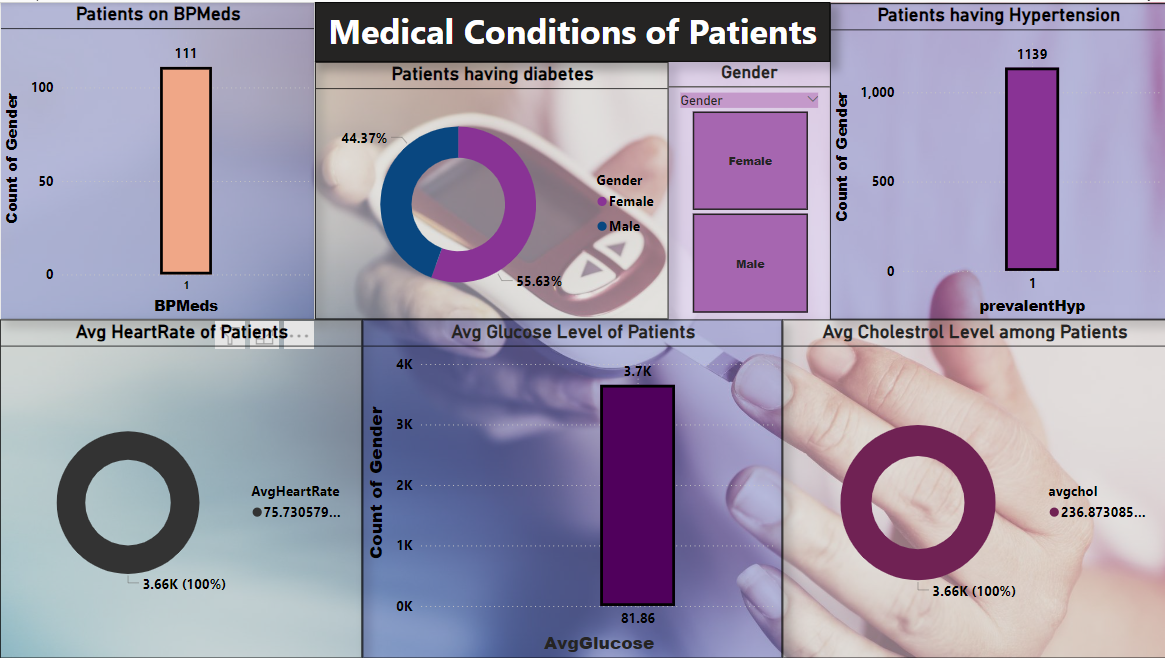

What the dashboard file says about the page in this screenshot:
{"tool":"powerbi","page":{"name":"Page 2","canvas":[1280,720],"ordinal":1},"visuals":[{"type":"clusteredColumnChart","title":"Patients on BPMeds","fields":{"Category":["heart_disease.BPMeds"],"Y":["CountNonNull(heart_disease.Gender)"]},"box":[0,0,345.8,348.5],"z":0},{"type":"donutChart","title":"Patients having diabetes","fields":{"Y":["CountNonNull(heart_disease.diabetes)"],"Category":["heart_disease.Gender"]},"box":[345.8,65.9,388.3,282.7],"z":1000},{"type":"columnChart","title":"Patients having Hypertension","fields":{"Category":["heart_disease.prevalentHyp"],"Y":["CountNonNull(heart_disease.Gender)"]},"box":[911.2,1.4,369.1,347.2],"z":2000},{"type":"textbox","box":[345.8,0,565.4,65.9],"z":3000},{"type":"donutChart","title":"Avg HeartRate of Patients","fields":{"Category":["heart_disease.AvgHeartRate"],"Y":["CountNonNull(heart_disease.Gender)"]},"box":[0,348.5,397.9,371.9],"z":4000},{"type":"columnChart","title":"Avg Glucose Level of Patients","fields":{"Y":["CountNonNull(heart_disease.Gender)"],"Category":["heart_disease.AvgGlucose"]},"box":[397.9,348.5,461.1,371.9],"z":5000},{"type":"donutChart","title":"Avg Cholestrol Level among Patients","fields":{"Category":["heart_disease.avgchol"],"Y":["CountNonNull(heart_disease.Gender)"]},"box":[859,348.5,421.3,371.9],"z":6000},{"type":"slicer","title":"Gender","fields":{"Values":["heart_disease.Gender"]},"box":[734.1,65.9,177,282.7],"z":7000}]}

Visuals, with their boxes in screenshot pixels (x1, y1, x2, y2), scaled from the page's 1280x720 canvas onto the 1165x658 screenshot:
"Patients on BPMeds" clusteredColumnChart: 0,0,315,318
"Patients having diabetes" donutChart: 315,60,668,319
"Patients having Hypertension" columnChart: 829,1,1164,319
textbox: 315,0,829,60
"Avg HeartRate of Patients" donutChart: 0,318,362,657
"Avg Glucose Level of Patients" columnChart: 362,318,782,657
"Avg Cholestrol Level among Patients" donutChart: 782,318,1164,657
"Gender" slicer: 668,60,829,319
